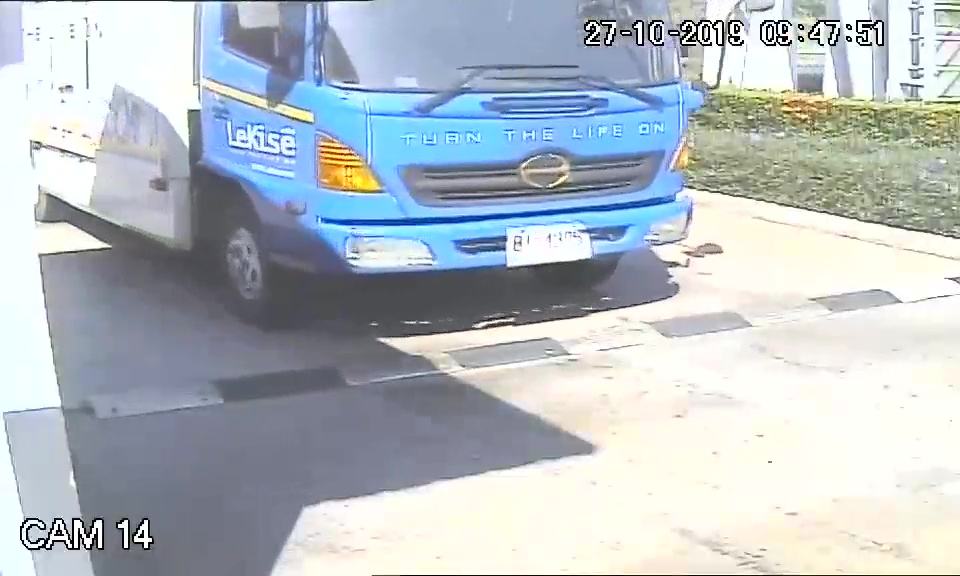truck: (193, 6, 701, 330)
